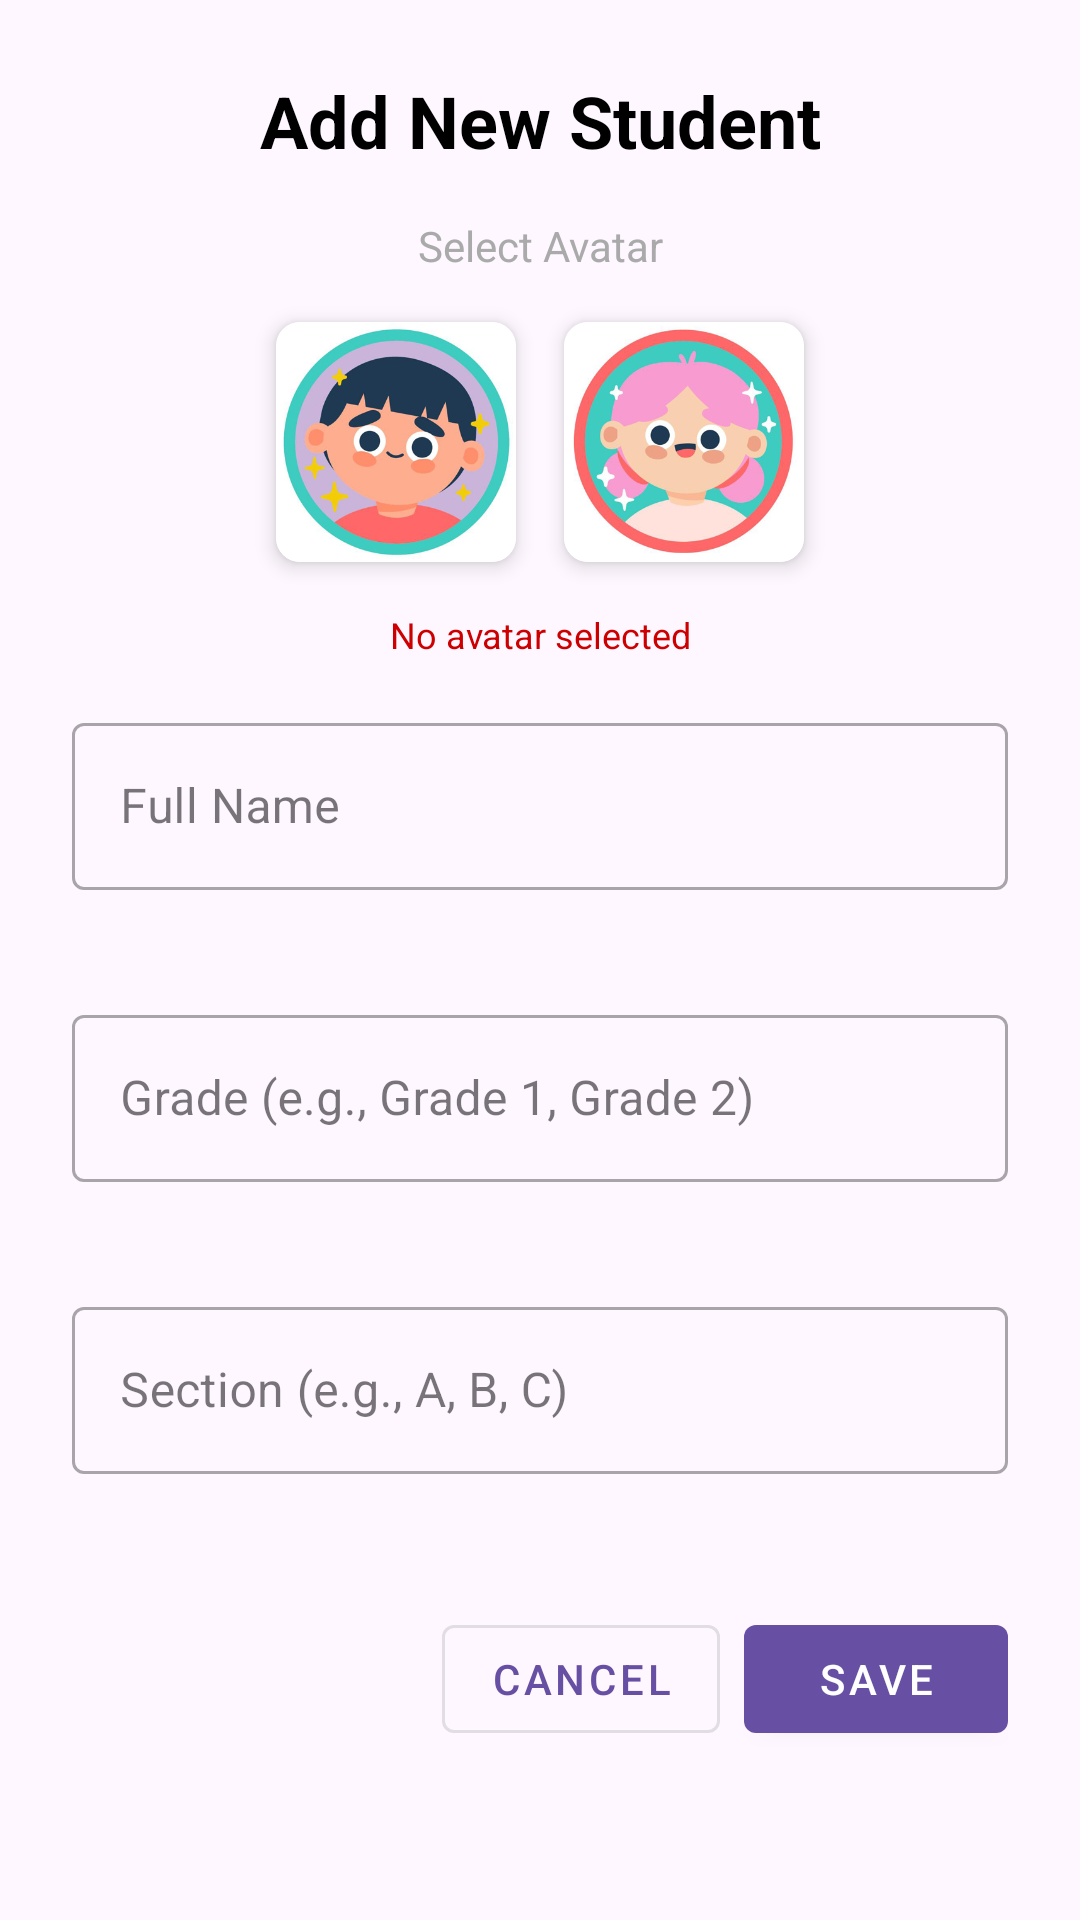

Icons on this 1080w x 1920h Android screen, each with its box as (x1, y1, x2, y2):
boy: (283, 329, 510, 555)
girl: (574, 329, 793, 553)
